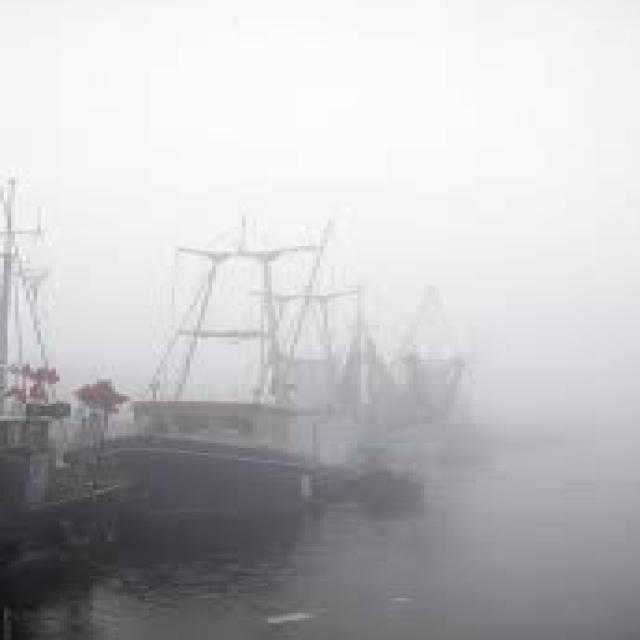fishing boat: (49, 200, 526, 518)
